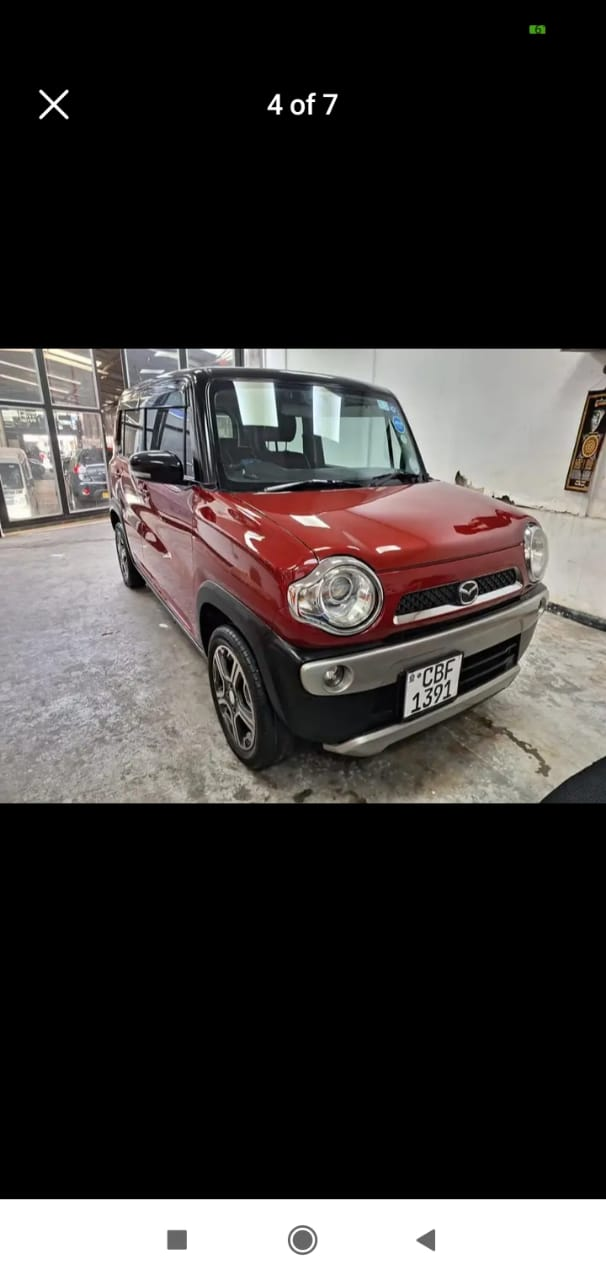number_plate: (399, 651, 468, 714)
